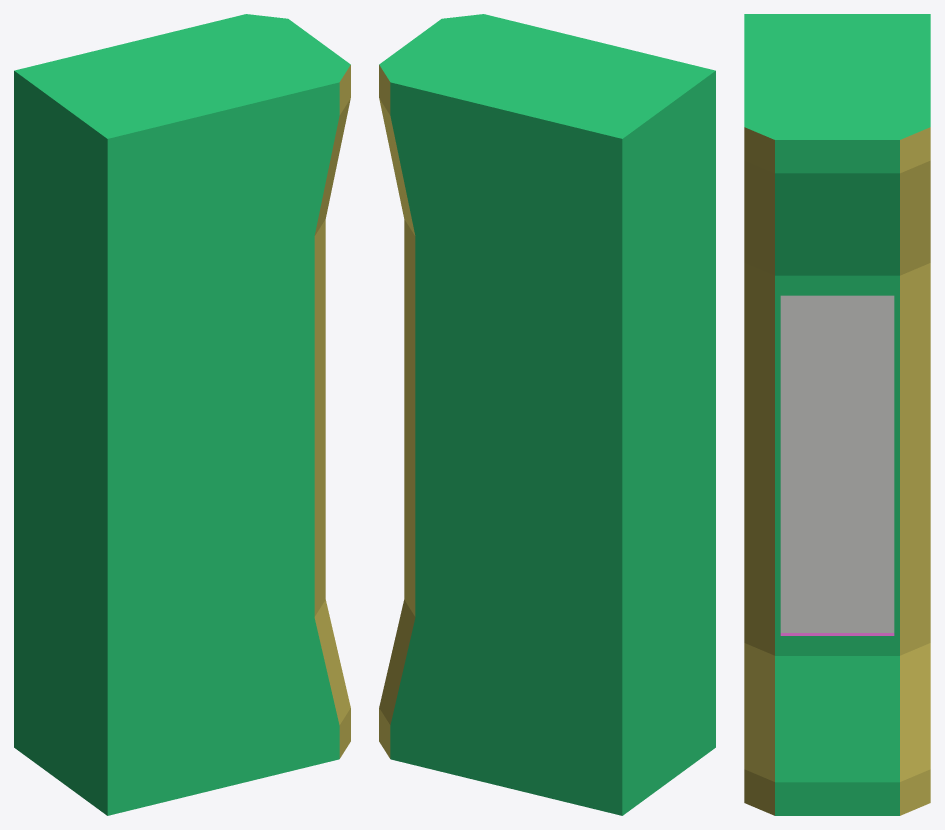
Rendered from Wall_Break.fbx.
3 renders of one model, left to right at view 1: azimuth 30°, elevation 25°; view 2: azimuth 150°, elevation 25°; view 3: azimuth 270°, elevation 25°, orthographic.
Parts seen in each view (by area): view 1: Wall_Cap; view 2: Wall_Cap; view 3: Wall_Cap.
Part boxes in pixels (x1,y1,x2,y2): Wall_Cap: [14, 14, 350, 815]; Wall_Cap: [379, 14, 715, 815]; Wall_Cap: [744, 14, 930, 815].
Bounding box in the file's own units: 160 × 400 × 100.
